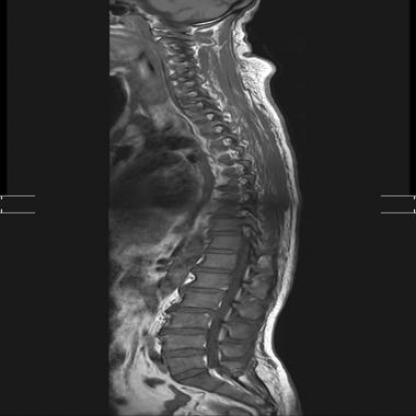Annular Tearrotation: (168, 366, 209, 381)
Disc Bulgerotation: (159, 344, 207, 359), (161, 324, 208, 339), (168, 366, 210, 381)
Disc Protrusionrotation: (166, 52, 195, 74), (175, 301, 214, 317)
